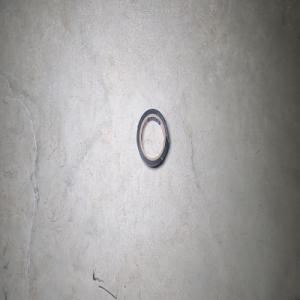Tape: (136, 108, 169, 167)
